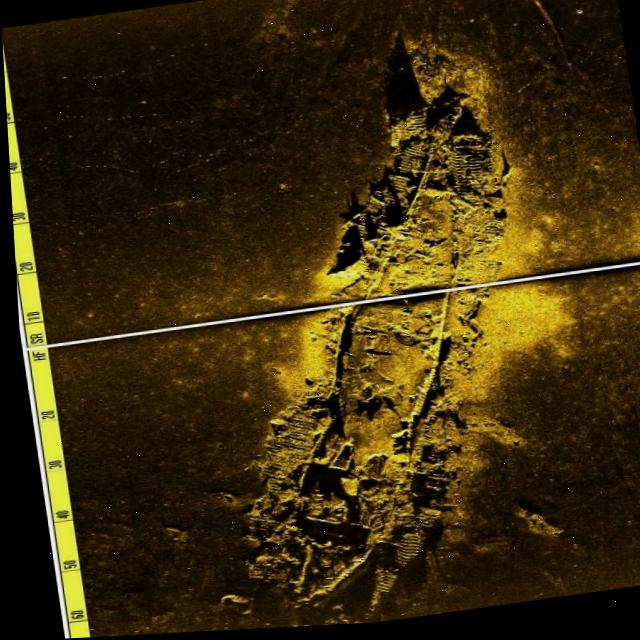shipwreck: (183, 89, 559, 616)
